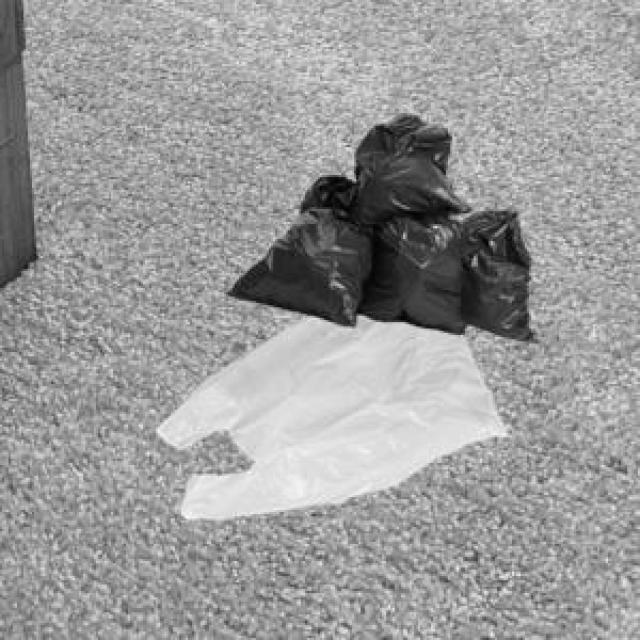miscellaneous trash: (224, 109, 533, 339)
